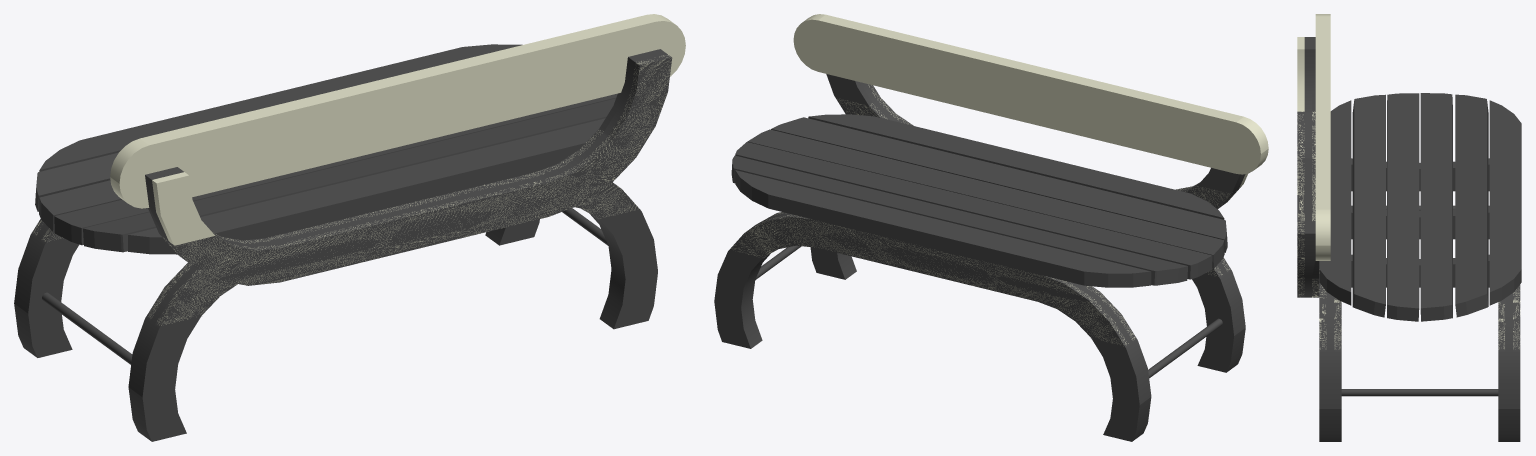
3 renders of one model, left to right at view 1: azimuth 30°, elevation 25°; view 2: azimuth 150°, elevation 25°; view 3: azimuth 270°, elevation 25°, orthographic. The views are drawn at different scales.
Visible parts, largest first — view 1: mesh35_mesh35-geometry, mesh17_mesh17-geometry, mesh40_mesh40-geometry, mesh7_mesh7-geometry, mesh42_mesh42-geometry, mesh46_mesh46-geometry, mesh11_mesh11-geometry, mesh1_mesh1-geometry, mesh44_mesh44-geometry, mesh29_mesh29-geometry, mesh23_mesh23-geometry, mesh38_mesh38-geometry (+5 smaller); view 2: mesh35_mesh35-geometry, mesh46_mesh46-geometry, mesh17_mesh17-geometry, mesh42_mesh42-geometry, mesh44_mesh44-geometry, mesh36_mesh36-geometry, mesh38_mesh38-geometry, mesh40_mesh40-geometry, mesh11_mesh11-geometry, mesh7_mesh7-geometry, mesh1_mesh1-geometry, mesh5_mesh5-geometry (+3 smaller); view 3: mesh36_mesh36-geometry, mesh44_mesh44-geometry, mesh38_mesh38-geometry, mesh42_mesh42-geometry, mesh46_mesh46-geometry, mesh40_mesh40-geometry, mesh35_mesh35-geometry, mesh15_mesh15-geometry, mesh17_mesh17-geometry, mesh1_mesh1-geometry, mesh7_mesh7-geometry, mesh11_mesh11-geometry (+10 smaller).
Boxes of the visible parts, x1,y1,x2,y2 form: mesh35_mesh35-geometry: (110,14,685,208); mesh17_mesh17-geometry: (32,129,653,318); mesh40_mesh40-geometry: (128,118,605,254); mesh7_mesh7-geometry: (14,209,657,357); mesh42_mesh42-geometry: (83,98,615,252); mesh46_mesh46-geometry: (39,44,522,171); mesh11_mesh11-geometry: (128,219,539,441); mesh1_mesh1-geometry: (42,128,639,326); mesh44_mesh44-geometry: (54,93,617,245); mesh29_mesh29-geometry: (609,54,672,138); mesh23_mesh23-geometry: (152,172,215,245); mesh38_mesh38-geometry: (35,152,118,211); mesh35_mesh35-geometry: (793,14,1268,174); mesh46_mesh46-geometry: (735,170,1151,287); mesh17_mesh17-geometry: (729,97,1241,346); mesh42_mesh42-geometry: (771,117,1227,252); mesh44_mesh44-geometry: (747,129,1224,268); mesh36_mesh36-geometry: (735,142,1212,279); mesh38_mesh38-geometry: (731,155,1187,285); mesh40_mesh40-geometry: (808,114,1224,219); mesh11_mesh11-geometry: (714,250,1245,372); mesh7_mesh7-geometry: (810,247,1151,441); mesh1_mesh1-geometry: (753,97,1233,340); mesh5_mesh5-geometry: (1094,261,1241,438); mesh36_mesh36-geometry: (1420,93,1452,321); mesh44_mesh44-geometry: (1387,93,1419,321); mesh38_mesh38-geometry: (1455,94,1488,317); mesh42_mesh42-geometry: (1352,94,1385,317); mesh46_mesh46-geometry: (1489,100,1521,305); mesh40_mesh40-geometry: (1319,100,1351,305); mesh35_mesh35-geometry: (1315,14,1330,260); mesh15_mesh15-geometry: (1326,300,1512,441); mesh17_mesh17-geometry: (1297,111,1520,349); mesh1_mesh1-geometry: (1312,111,1505,349); mesh7_mesh7-geometry: (1319,350,1341,441); mesh11_mesh11-geometry: (1498,350,1520,441).
Bounding box in the file's own units: 0.8311 × 0.4201 × 0.3644.
